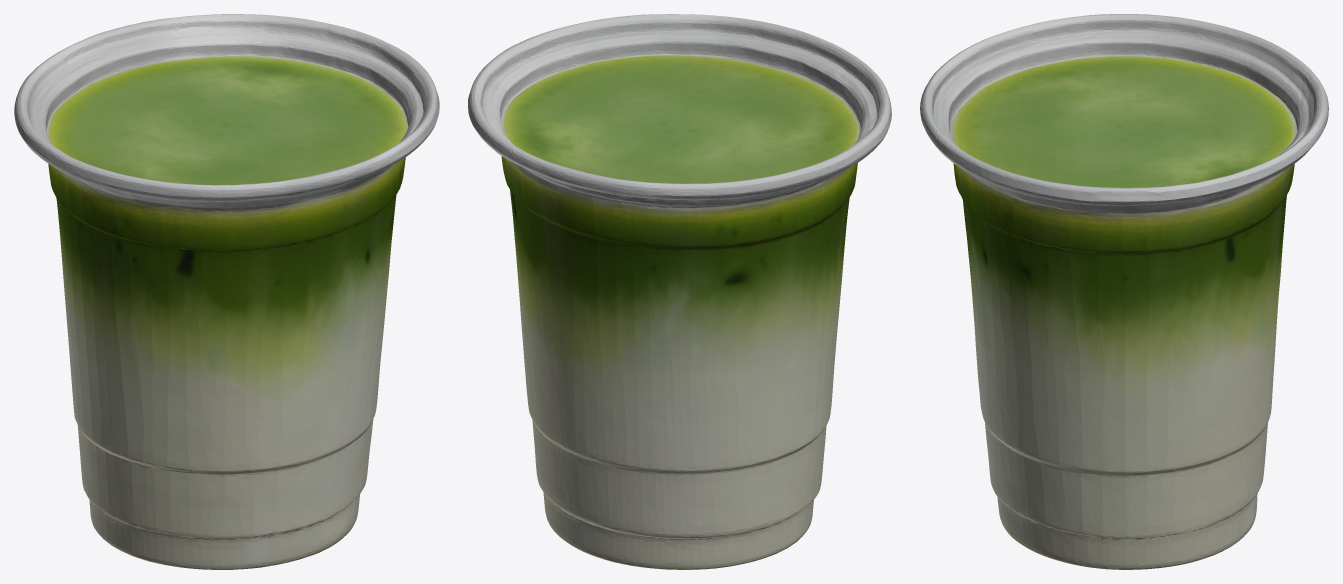
The model's file is lycomatchavasua.fbx.
The picture shows the model from 3 angles, left to right: view 1: azimuth 30°, elevation 25°; view 2: azimuth 150°, elevation 25°; view 3: azimuth 270°, elevation 25°; orthographic projection.
Parts seen in each view (by area): view 1: world; view 2: world; view 3: world.
Boxes of the visible parts, left/top/right/bottom form: world: left=14, top=14, right=439, bottom=569; world: left=468, top=14, right=891, bottom=569; world: left=920, top=14, right=1328, bottom=569.
Bounding box in the file's own units: 0.9351 × 1 × 0.8955.
1 material, 1 textured.
